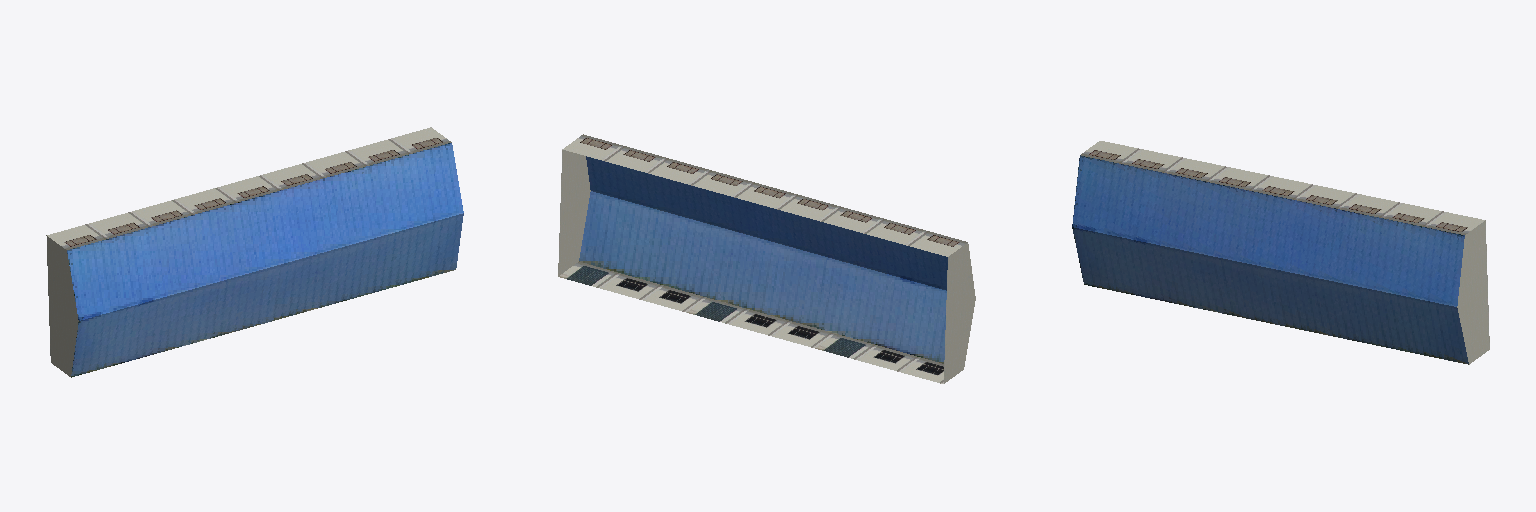
The picture shows the model from 3 angles: view 1: azimuth 30°, elevation 25°; view 2: azimuth 150°, elevation 25°; view 3: azimuth 330°, elevation 25°; orthographic projection.
Visible parts, largest first — view 1: Group_MatrixTransform_i94b010_Geometry_4, Group_MatrixTransform_i94b010_Geometry_3, Group_MatrixTransform_i94b010_Geometry_2; view 2: Group_MatrixTransform_i94b010_Geometry_4, Group_MatrixTransform_i94b010_Geometry_3, Group_MatrixTransform_i94b010_Geometry_2, Group_MatrixTransform_i94b010_Geometry_0, Group_MatrixTransform_i94b010_Geometry_1; view 3: Group_MatrixTransform_i94b010_Geometry_4, Group_MatrixTransform_i94b010_Geometry_3, Group_MatrixTransform_i94b010_Geometry_2.
Boxes of the visible parts, <box> form: Group_MatrixTransform_i94b010_Geometry_4: <box>67,143,463,377</box>; Group_MatrixTransform_i94b010_Geometry_3: <box>47,127,451,249</box>; Group_MatrixTransform_i94b010_Geometry_2: <box>46,235,78,376</box>; Group_MatrixTransform_i94b010_Geometry_4: <box>579,156,947,363</box>; Group_MatrixTransform_i94b010_Geometry_3: <box>562,134,967,256</box>; Group_MatrixTransform_i94b010_Geometry_2: <box>558,150,975,383</box>; Group_MatrixTransform_i94b010_Geometry_0: <box>601,274,943,383</box>; Group_MatrixTransform_i94b010_Geometry_1: <box>559,262,877,359</box>; Group_MatrixTransform_i94b010_Geometry_4: <box>1072,155,1468,364</box>; Group_MatrixTransform_i94b010_Geometry_3: <box>1081,141,1484,234</box>; Group_MatrixTransform_i94b010_Geometry_2: <box>1457,220,1489,364</box>.
Size of the model in its own units: 49.51 by 17.29 by 6.71.
5 materials, 5 textured.